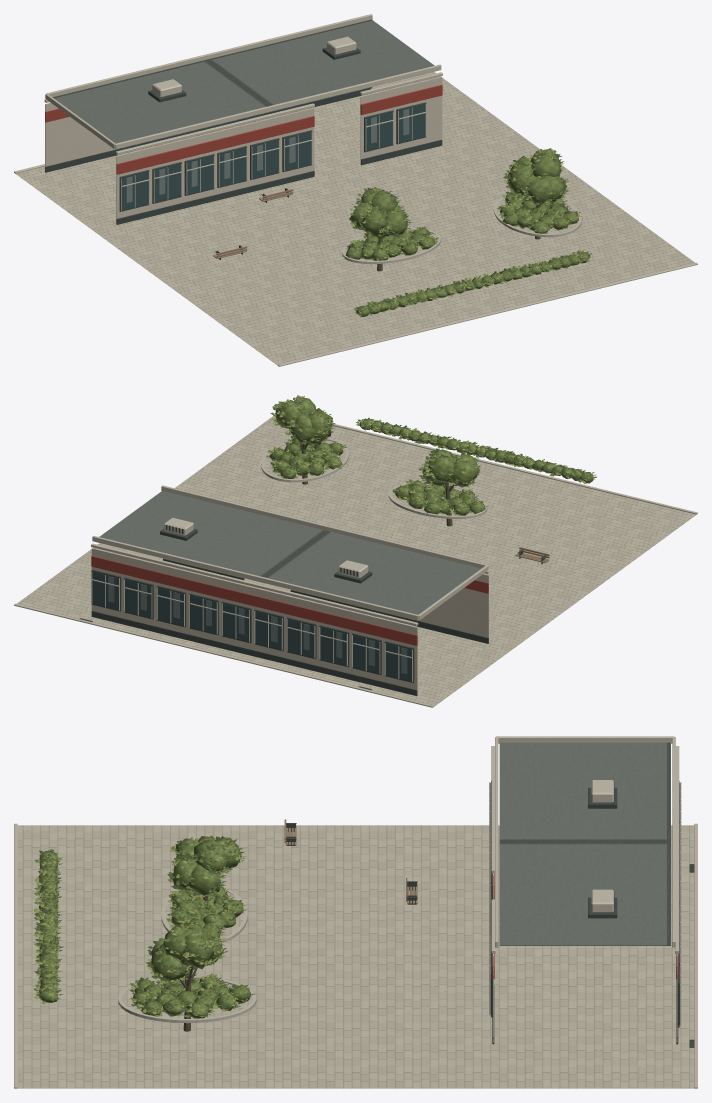
Rendered from court.glb.
3 views of the same model, one above another, from view 1: azimuth 30°, elevation 25°; view 2: azimuth 150°, elevation 25°; view 3: azimuth 270°, elevation 25° (orthographic). The views are drawn at different scales.
Parts seen in each view (by area): view 1: fixed:limestone, srap:roof-felt, srap:plaster, fixed:foliage, srap:limestone coping, fixed:leaf shadow, srap:smoked glazing, srap:powder coated graphite, srap:SRAP enamel, fixed:limestone coping, srap:soft reflected sky; view 2: fixed:limestone, srap:roof-felt, srap:plaster, srap:limestone coping, fixed:foliage, srap:smoked glazing, srap:powder coated graphite, fixed:leaf shadow, srap:SRAP enamel, fixed:limestone coping, srap:soft reflected sky; view 3: fixed:limestone, srap:roof-felt, fixed:foliage, fixed:leaf shadow, srap:limestone coping, fixed:limestone coping, srap:powder coated graphite.
Part boxes in pixels (left/top/right/bottom): fixed:limestone: left=15, top=72, right=694, bottom=366; srap:roof-felt: left=53, top=19, right=434, bottom=143; srap:plaster: left=45, top=77, right=442, bottom=218; fixed:foliage: left=345, top=150, right=589, bottom=316; srap:limestone coping: left=44, top=14, right=442, bottom=210; fixed:leaf shadow: left=343, top=148, right=591, bottom=316; srap:smoked glazing: left=122, top=104, right=425, bottom=210; srap:powder coated graphite: left=45, top=47, right=442, bottom=224; srap:SRAP enamel: left=45, top=84, right=442, bottom=174; fixed:limestone coping: left=14, top=164, right=697, bottom=366; srap:soft reflected sky: left=126, top=109, right=409, bottom=202; fixed:limestone: left=17, top=414, right=696, bottom=707; srap:roof-felt: left=99, top=490, right=481, bottom=614; srap:plaster: left=91, top=548, right=488, bottom=694; srap:limestone coping: left=91, top=485, right=489, bottom=682; fixed:foliage: left=269, top=397, right=593, bottom=515; srap:smoked glazing: left=92, top=572, right=411, bottom=681; srap:powder coated graphite: left=91, top=525, right=488, bottom=695; fixed:leaf shadow: left=266, top=395, right=596, bottom=515; srap:SRAP enamel: left=91, top=556, right=488, bottom=645; fixed:limestone coping: left=14, top=424, right=697, bottom=707; srap:soft reflected sky: left=108, top=576, right=407, bottom=674; fixed:limestone: left=17, top=825, right=694, bottom=1088; srap:roof-felt: left=499, top=742, right=670, bottom=945; fixed:foliage: left=38, top=836, right=251, bottom=1018; fixed:leaf shadow: left=33, top=835, right=255, bottom=1017; srap:limestone coping: left=489, top=736, right=681, bottom=1025; fixed:limestone coping: left=14, top=823, right=697, bottom=1088; srap:powder coated graphite: left=491, top=781, right=679, bottom=1044.
Size of the model in its own units: 36 by 7.17 by 39.52.
Materials: 15 (4 with a texture image).
